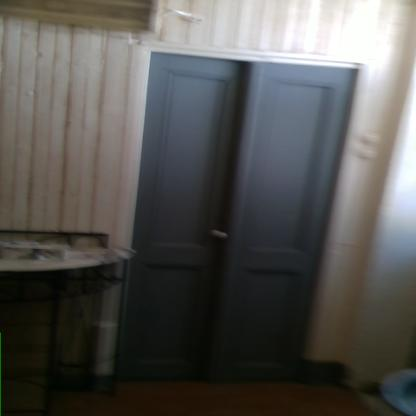closed: (122, 37, 373, 376)
